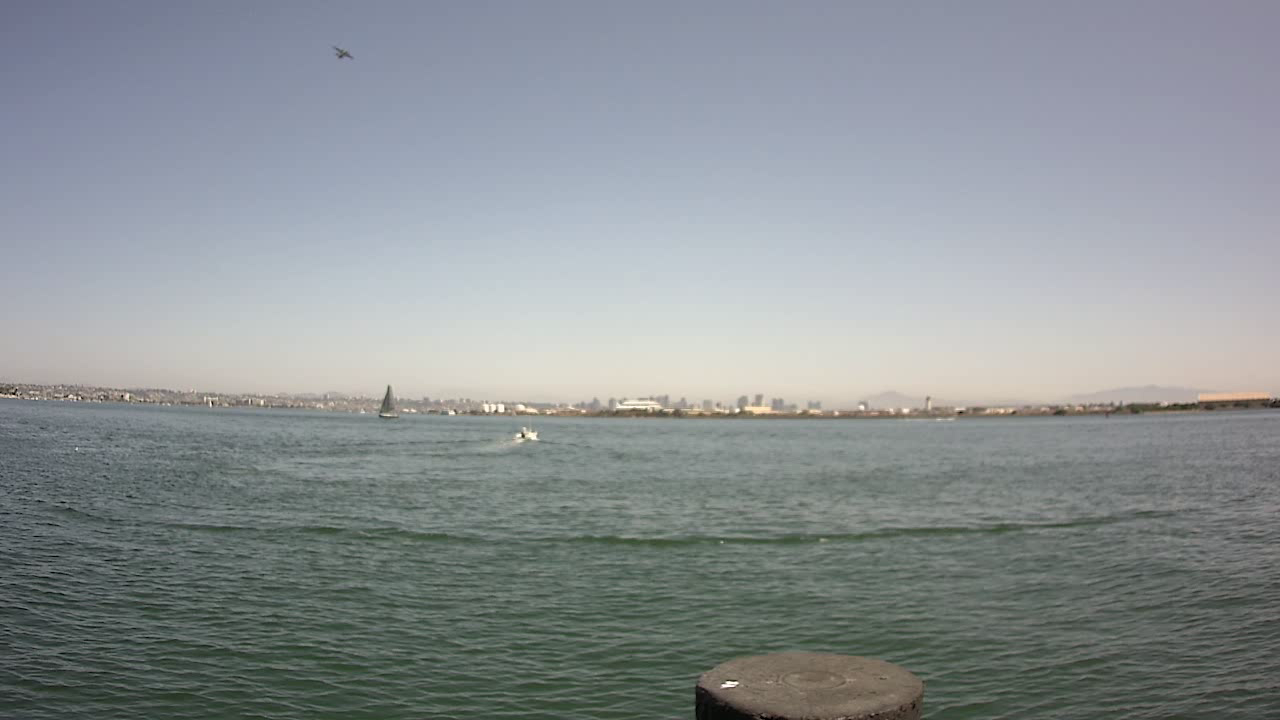target: (506, 419, 548, 450)
